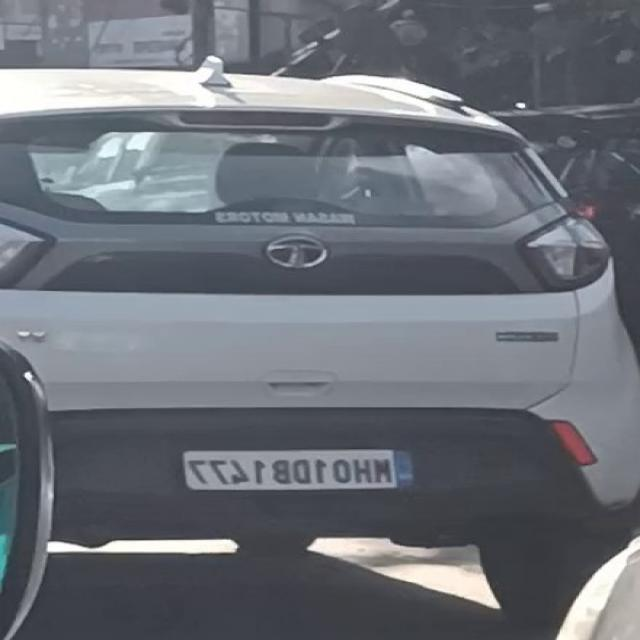license_plate: (170, 442, 422, 506)
